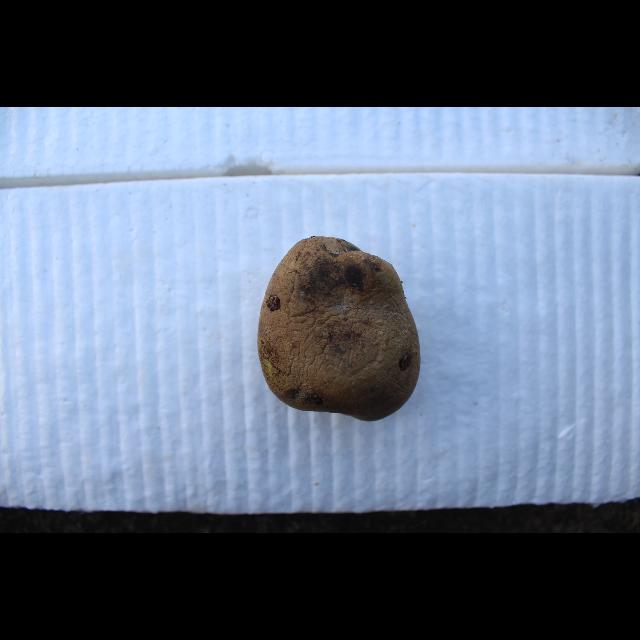Diseased-fungal potato: (253, 228, 422, 426)
